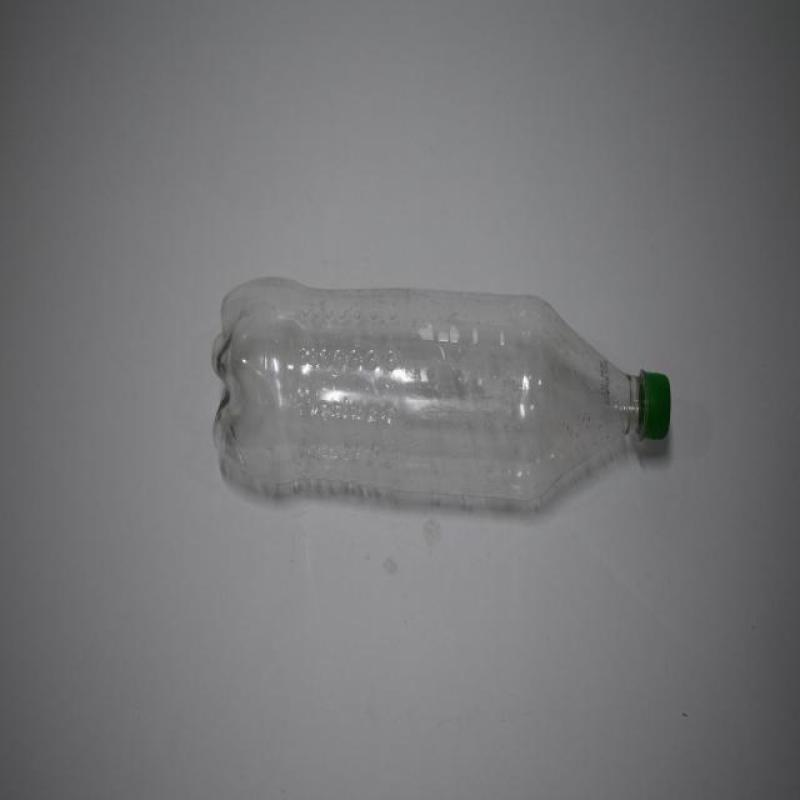botella: (211, 275, 671, 511)
